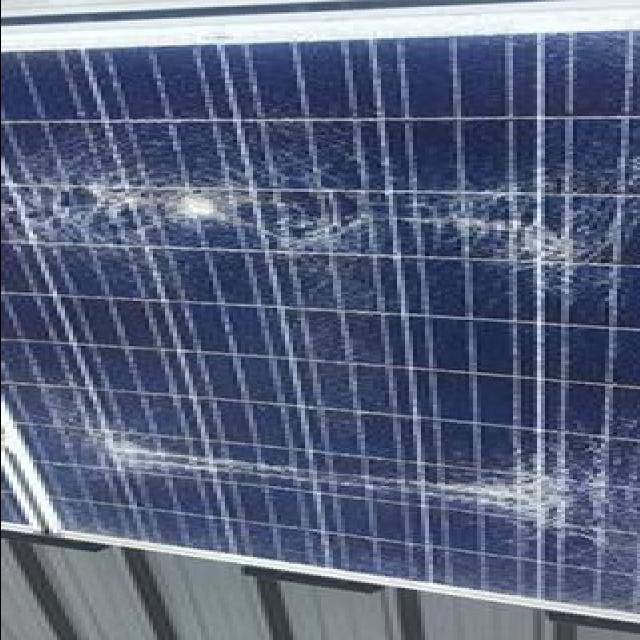cracked: (8, 28, 640, 596)
